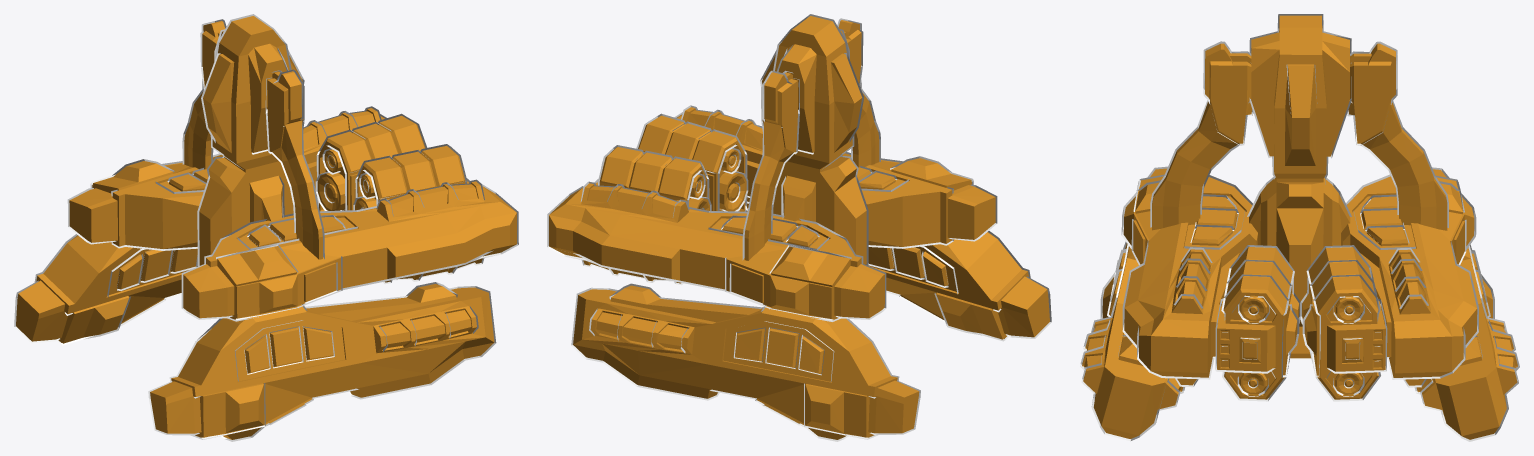
File: ship5_orange.glb
The picture shows the model from 3 angles, left to right: view 1: azimuth 30°, elevation 25°; view 2: azimuth 150°, elevation 25°; view 3: azimuth 270°, elevation 25°; orthographic projection. The views are drawn at different scales.
Parts seen in each view (by area): view 1: ME_ship_IndexedFaceSet; view 2: ME_ship_IndexedFaceSet; view 3: ME_ship_IndexedFaceSet.
Boxes of the visible parts, box(x1,y1,x2,y2) form: ME_ship_IndexedFaceSet: box(14, 14, 518, 441); ME_ship_IndexedFaceSet: box(547, 14, 1051, 441); ME_ship_IndexedFaceSet: box(1080, 14, 1519, 441).
Bounding box in the file's own units: 431 × 383 × 402.
